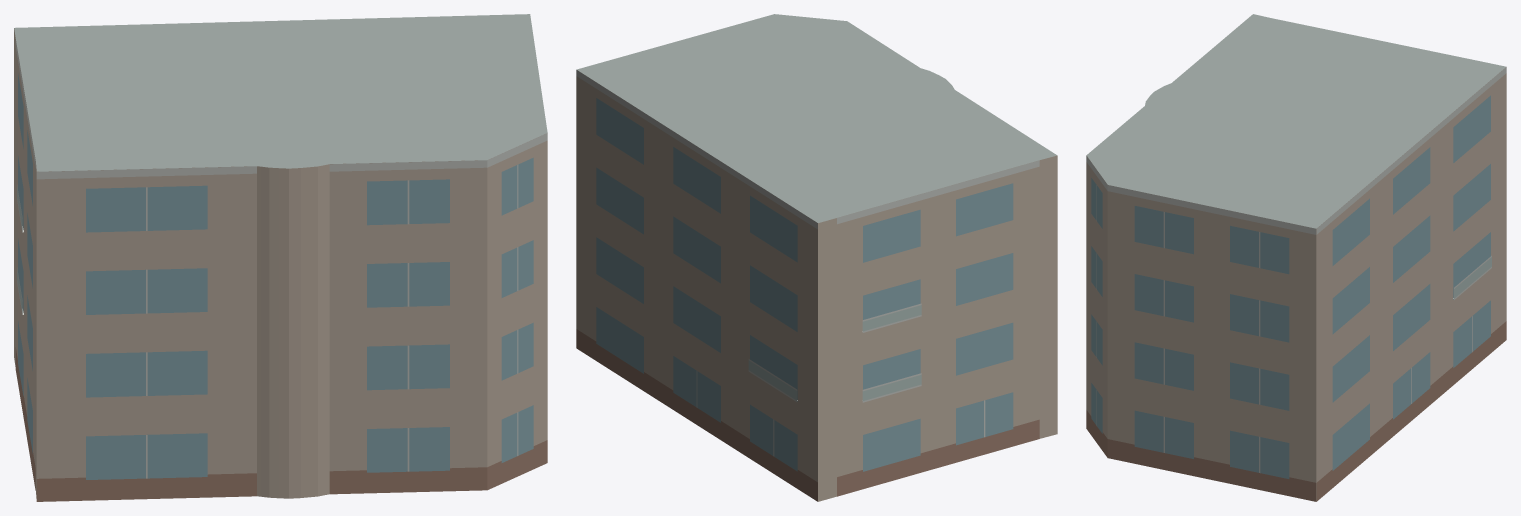
The model's file is survey-upis-32960198.glb.
3 views of the same model, side by side, from view 1: azimuth 30°, elevation 25°; view 2: azimuth 150°, elevation 25°; view 3: azimuth 270°, elevation 25° (orthographic). The views are drawn at different scales.
Visible parts, largest first — view 1: survey-upis-32960198.tmp; view 2: survey-upis-32960198.tmp; view 3: survey-upis-32960198.tmp.
Boxes of the visible parts, left/top/right/bottom form: survey-upis-32960198.tmp: left=14, top=14, right=547, bottom=501; survey-upis-32960198.tmp: left=576, top=14, right=1057, bottom=501; survey-upis-32960198.tmp: left=1086, top=14, right=1506, bottom=501.
Bounding box in the file's own units: 17.87 × 10.6 × 14.79.
